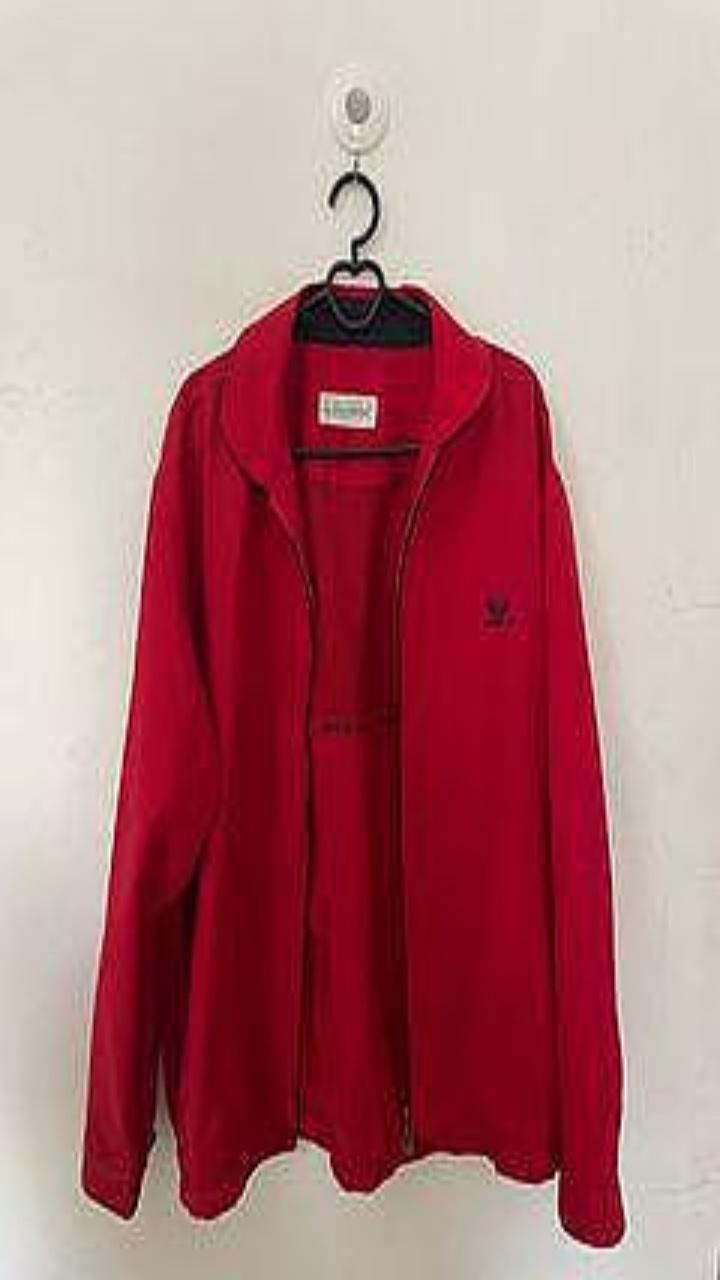Sports_Jacket: (82, 282, 624, 1245)
